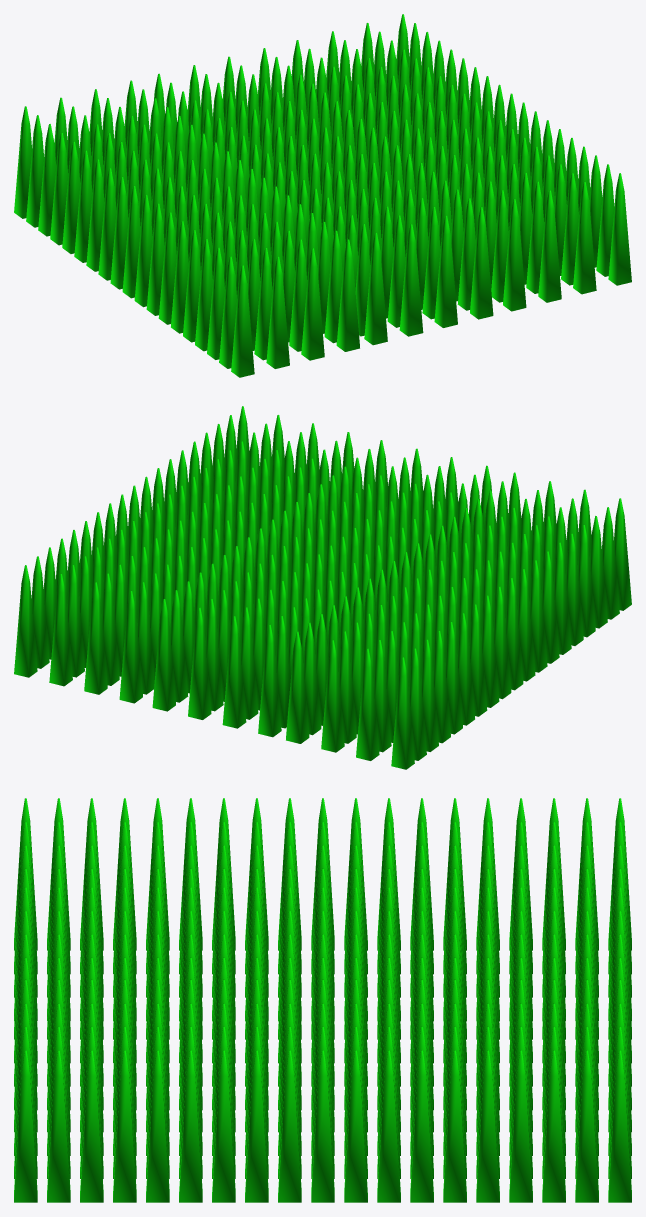
File: broto-level-1.fbx
The picture shows the model from 3 angles, top to bottom: view 1: azimuth 30°, elevation 25°; view 2: azimuth 150°, elevation 25°; view 3: azimuth 270°, elevation 25°; orthographic projection. The views are drawn at different scales.
Visible parts, largest first — view 1: broto; view 2: broto; view 3: broto.
Boxes of the visible parts, left/top/right/bottom form: broto: left=14, top=14, right=631, bottom=377; broto: left=14, top=406, right=631, bottom=769; broto: left=14, top=798, right=631, bottom=1202.
Bounding box in the file's own units: 1878 × 491 × 1871.
